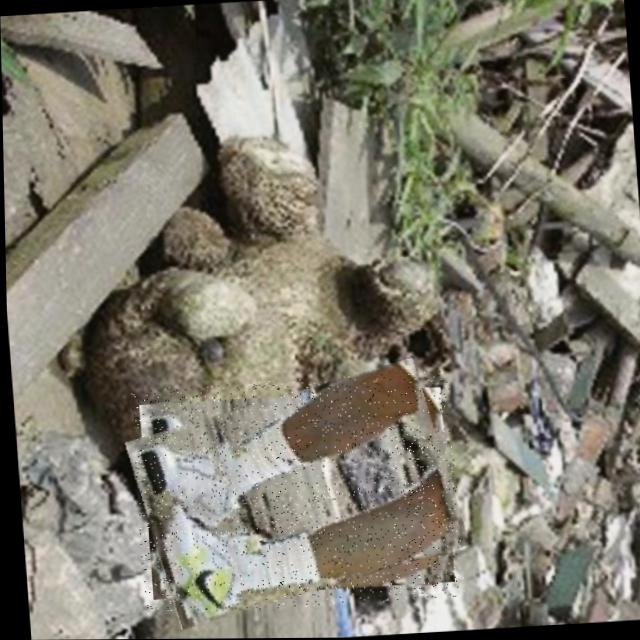Person in Rubble: (126, 371, 461, 616)
